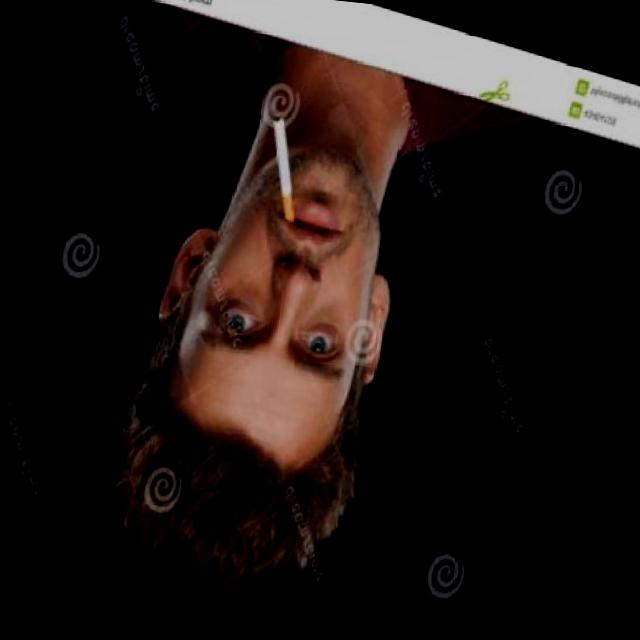smoke: (246, 105, 331, 228)
